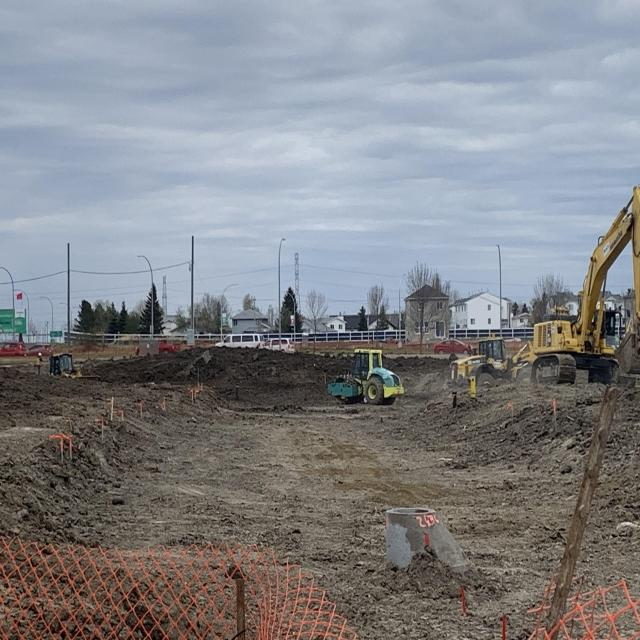Excavator: (534, 185, 640, 388)
Loader: (450, 336, 530, 396)
Roller: (320, 345, 404, 408)
